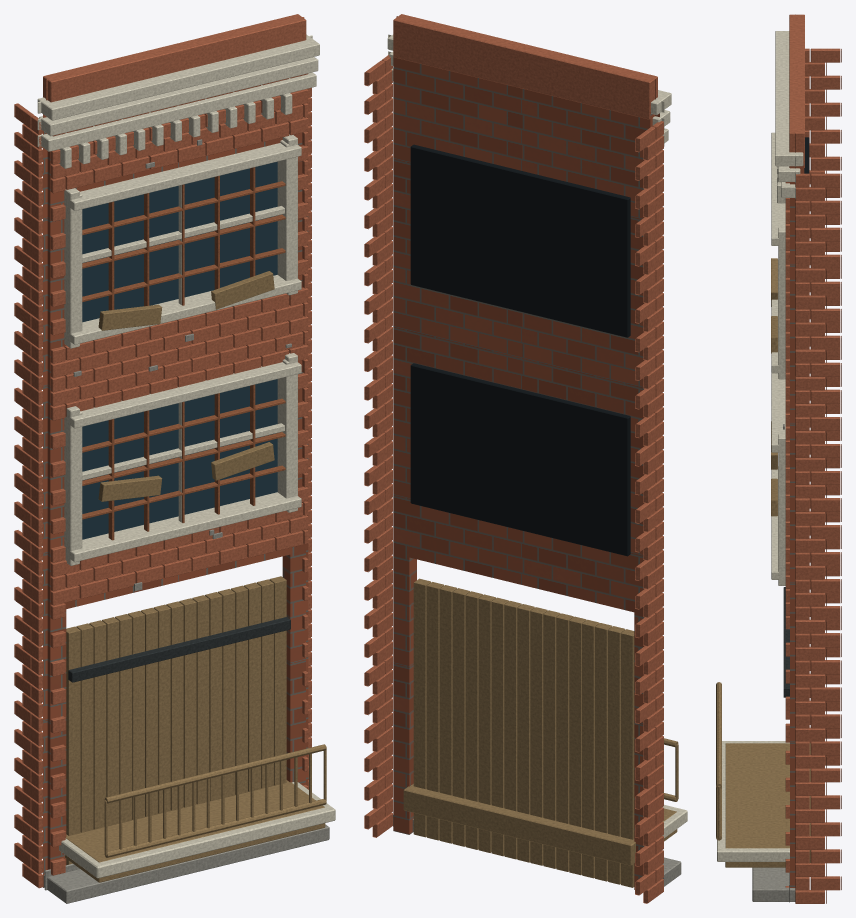
Rendered from WRHS2_lod0.glb.
3 views of the same model, side by side, from view 1: azimuth 30°, elevation 25°; view 2: azimuth 150°, elevation 25°; view 3: azimuth 270°, elevation 25° (orthographic). The views are drawn at different scales.
Visible parts, largest first — view 1: WRHS2_FRONT_LOD0; view 2: WRHS2_FRONT_LOD0; view 3: WRHS2_FRONT_LOD0.
Part boxes in pixels (box(x1,y1,x2,y2)): WRHS2_FRONT_LOD0: box(14, 14, 335, 903); WRHS2_FRONT_LOD0: box(364, 14, 687, 903); WRHS2_FRONT_LOD0: box(716, 14, 841, 903).
Size of the model in its own units: 3.44 by 9.66 by 1.43.
Materials: 12 (10 with a texture image).
